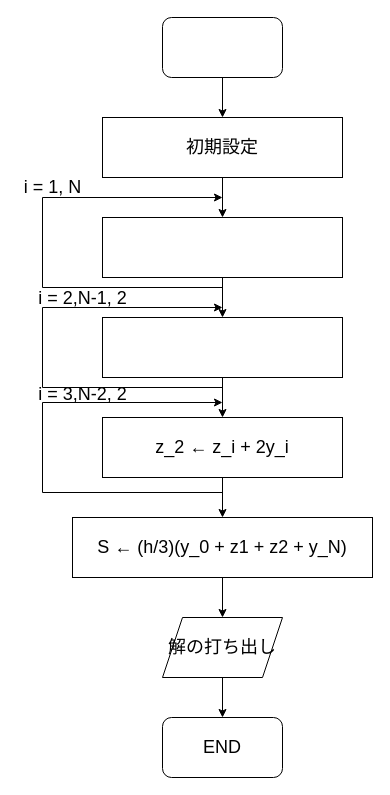
The diagram is 390 pixels wide and 795 high, and some of its shapes have lost their labels. Here are the shapes that lost their labels. From the top down, the box of each, then its label:
(162, 16, 282, 78): START
(102, 216, 342, 278): x ← x_a + h*i y_i ← f(x)
(102, 316, 342, 378): z_1 ← z_i + 4y_i
